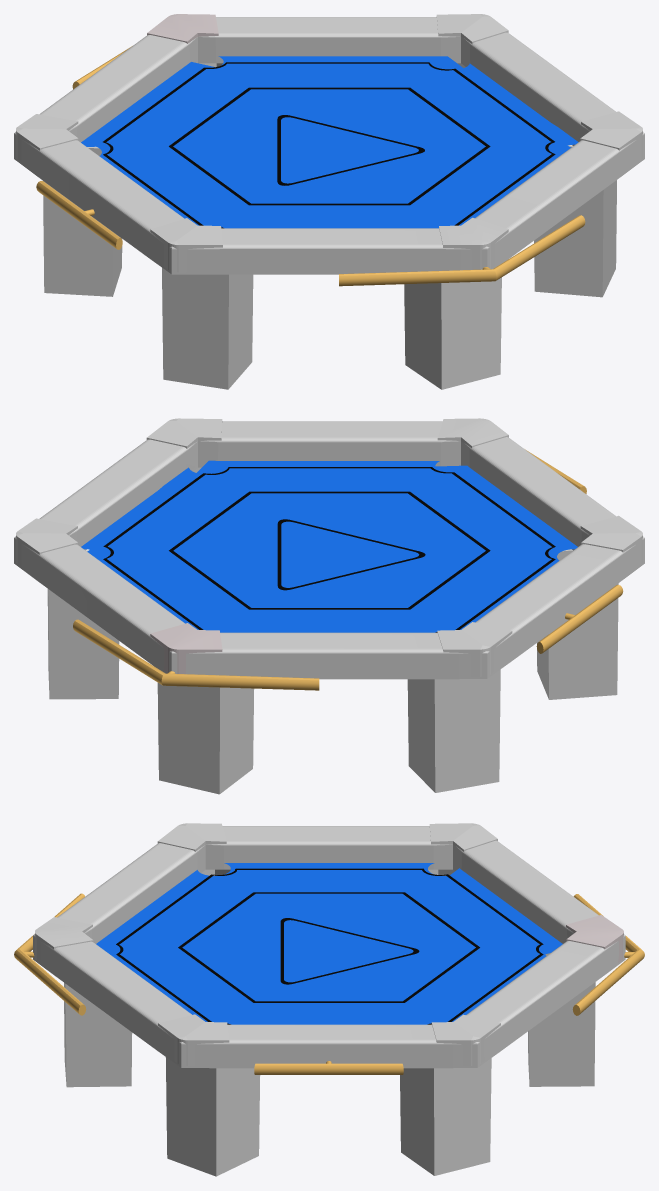
The model's file is Hexagon6Holes.fbx.
3 renders of one model, top to bottom at view 1: azimuth 30°, elevation 25°; view 2: azimuth 150°, elevation 25°; view 3: azimuth 270°, elevation 25°, orthographic. The views are drawn at different scales.
Parts seen in each view (by area): view 1: ActualBase, EdgeHighlight, Hole1TriggerSide2, Hole2TriggerSide1, Hole6TriggerSide3, Hole3TriggerSide1, Hole2TriggerSide2, Handle1.001, Hole1TriggerSide1, MiddleRing, OuterRing, HoleGlow1 (+8 smaller); view 2: ActualBase, EdgeHighlight, Hole6TriggerSide1, Hole5TriggerSide2, Hole4TriggerSide2, Hole1TriggerSide4, Handle1, Hole5TriggerSide1, Hole6TriggerSide2, MiddleRing, OuterRing, HoleGlow6 (+7 smaller); view 3: ActualBase, EdgeHighlight, Hole4TriggerSide4, Hole3TriggerSide3, Hole5TriggerSide4, Hole2TriggerSide3, Hole3TriggerSide4, Hole4TriggerSide3, OuterRing, HoleGlow3, Handle2, HoleGlow4 (+8 smaller).
Boxes of the visible parts, x1,y1,x2,y2 form: ActualBase: [81, 56, 578, 228]; EdgeHighlight: [14, 17, 644, 274]; Hole1TriggerSide2: [162, 268, 228, 389]; Hole2TriggerSide1: [441, 277, 501, 389]; Hole6TriggerSide3: [43, 181, 113, 296]; Hole3TriggerSide1: [534, 190, 603, 297]; Hole2TriggerSide2: [404, 283, 441, 389]; Handle1.001: [339, 215, 585, 286]; Hole1TriggerSide1: [228, 274, 253, 389]; MiddleRing: [169, 87, 490, 205]; OuterRing: [103, 62, 555, 228]; HoleGlow1: [150, 218, 222, 272]; ActualBase: [81, 460, 577, 632]; EdgeHighlight: [14, 421, 644, 679]; Hole6TriggerSide1: [434, 669, 500, 792]; Hole5TriggerSide2: [157, 683, 219, 794]; Hole4TriggerSide2: [48, 589, 119, 699]; Hole1TriggerSide4: [548, 583, 618, 699]; Handle1: [73, 619, 319, 690]; Hole5TriggerSide1: [219, 687, 254, 793]; Hole6TriggerSide2: [407, 679, 435, 792]; MiddleRing: [169, 491, 490, 609]; OuterRing: [103, 467, 555, 632]; HoleGlow6: [437, 622, 512, 676]; ActualBase: [96, 863, 562, 1024]; EdgeHighlight: [33, 826, 625, 1068]; Hole4TriggerSide4: [434, 1058, 491, 1175]; Hole3TriggerSide3: [165, 1057, 216, 1176]; Hole5TriggerSide4: [529, 982, 595, 1086]; Hole2TriggerSide3: [65, 984, 132, 1087]; Hole3TriggerSide4: [216, 1068, 260, 1176]; Hole4TriggerSide3: [400, 1068, 434, 1175]; OuterRing: [116, 868, 543, 1024]; HoleGlow3: [158, 1014, 229, 1065]; Handle2: [254, 1063, 403, 1074]; HoleGlow4: [431, 1014, 500, 1065].
Size of the model in its own units: 2.26 by 0.6423 by 2.59.
